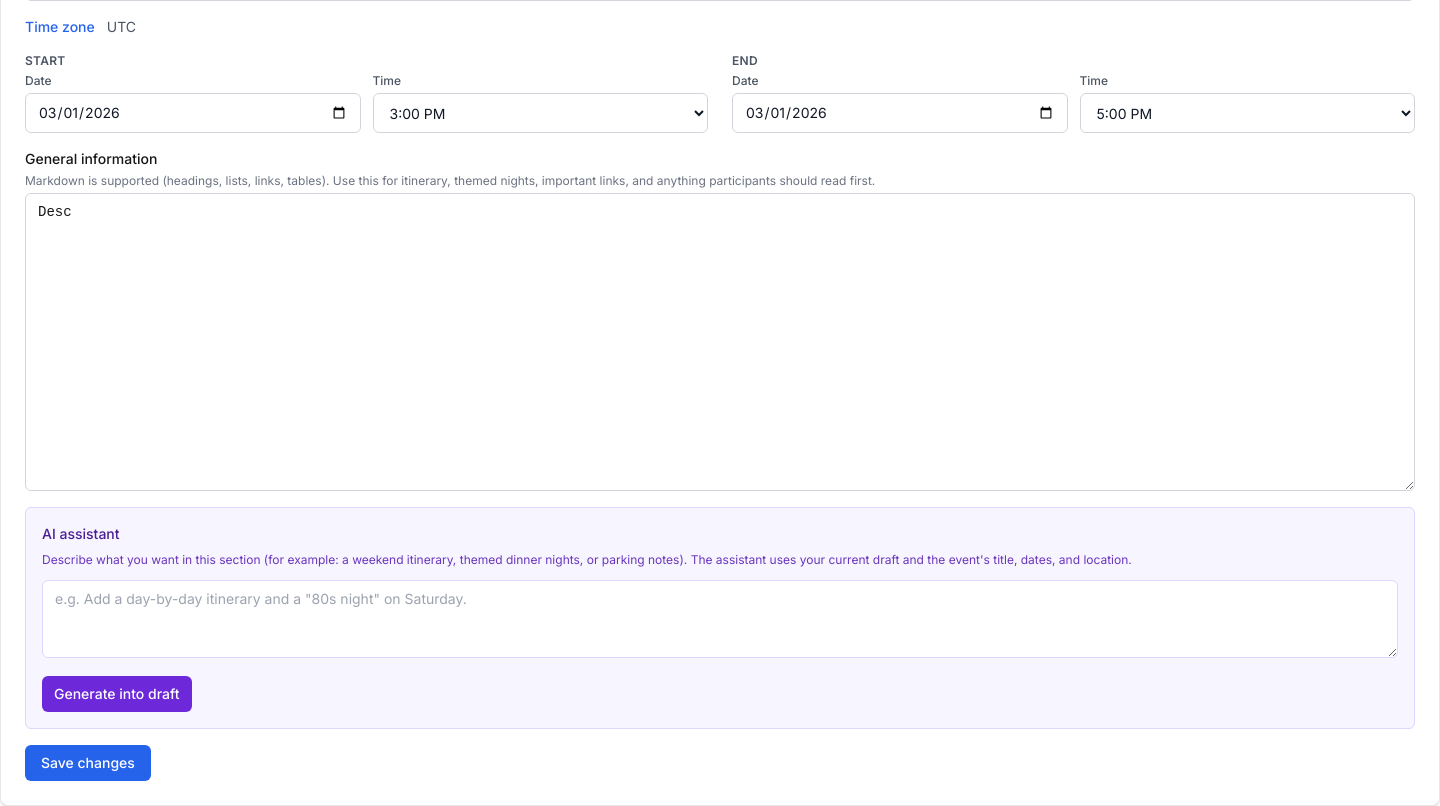
Test: EditEventForm › applies AI markdown into general information field
(page scrolled)
Expected: the text box labelled "General information" holds "Desc", top-left (25, 193), bottom-right (1415, 491)
In the text box with placeholder "day-by-day itinerary": (720, 619) top-left (42, 580), bottom-right (1398, 658), type "Expand intro"
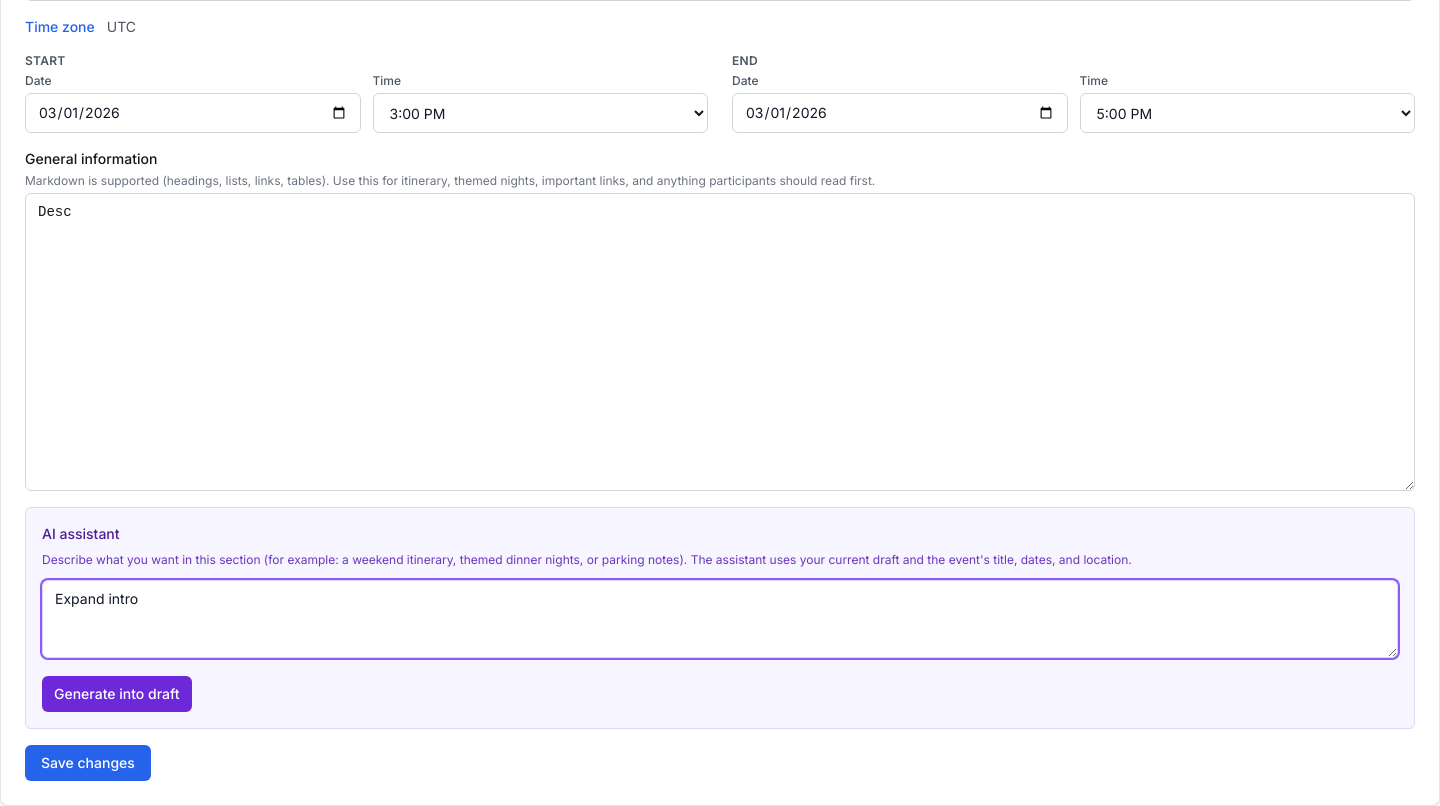
Click the button "Generate into draft": click(117, 694) top-left (42, 676), bottom-right (192, 712)
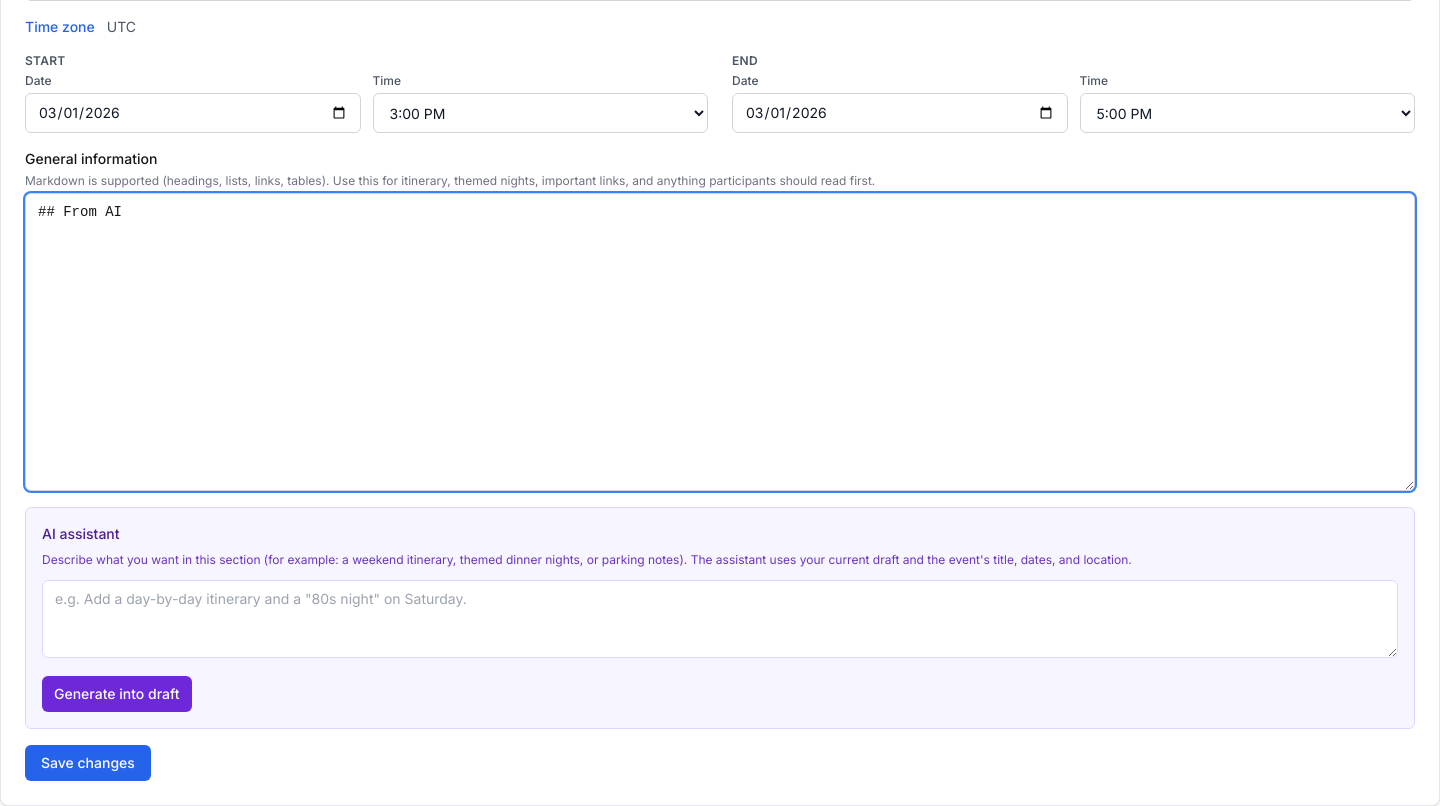
Result: the text box labelled "General information" holds "## From AI" at top-left (25, 193), bottom-right (1415, 491)
